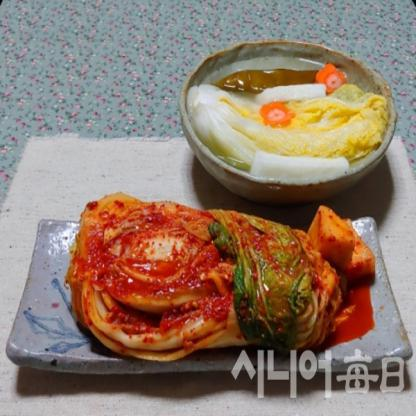kimchi: (64, 183, 387, 386)
